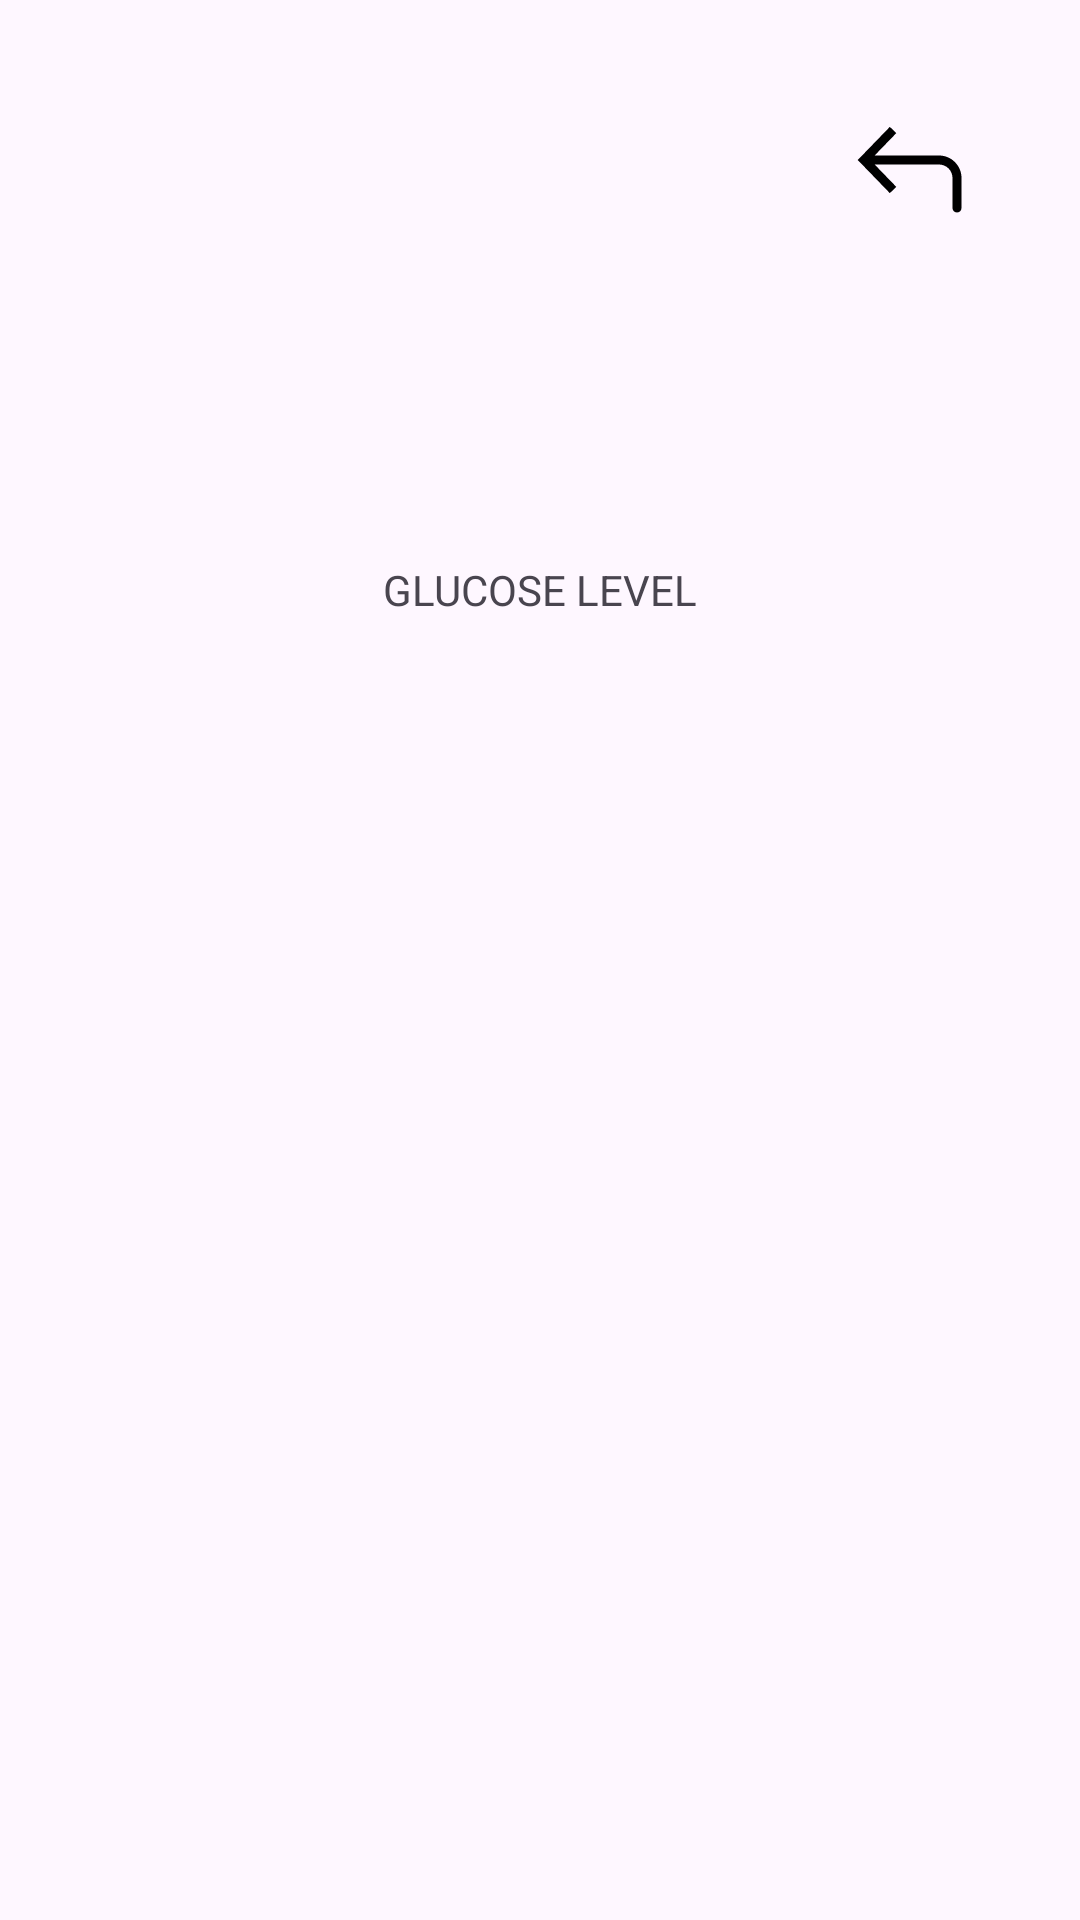

Icon bounding boxes for this 1080x1920 phone screenshot, format [x1,y1,x2,y2]:
back: [858,127,962,213]
